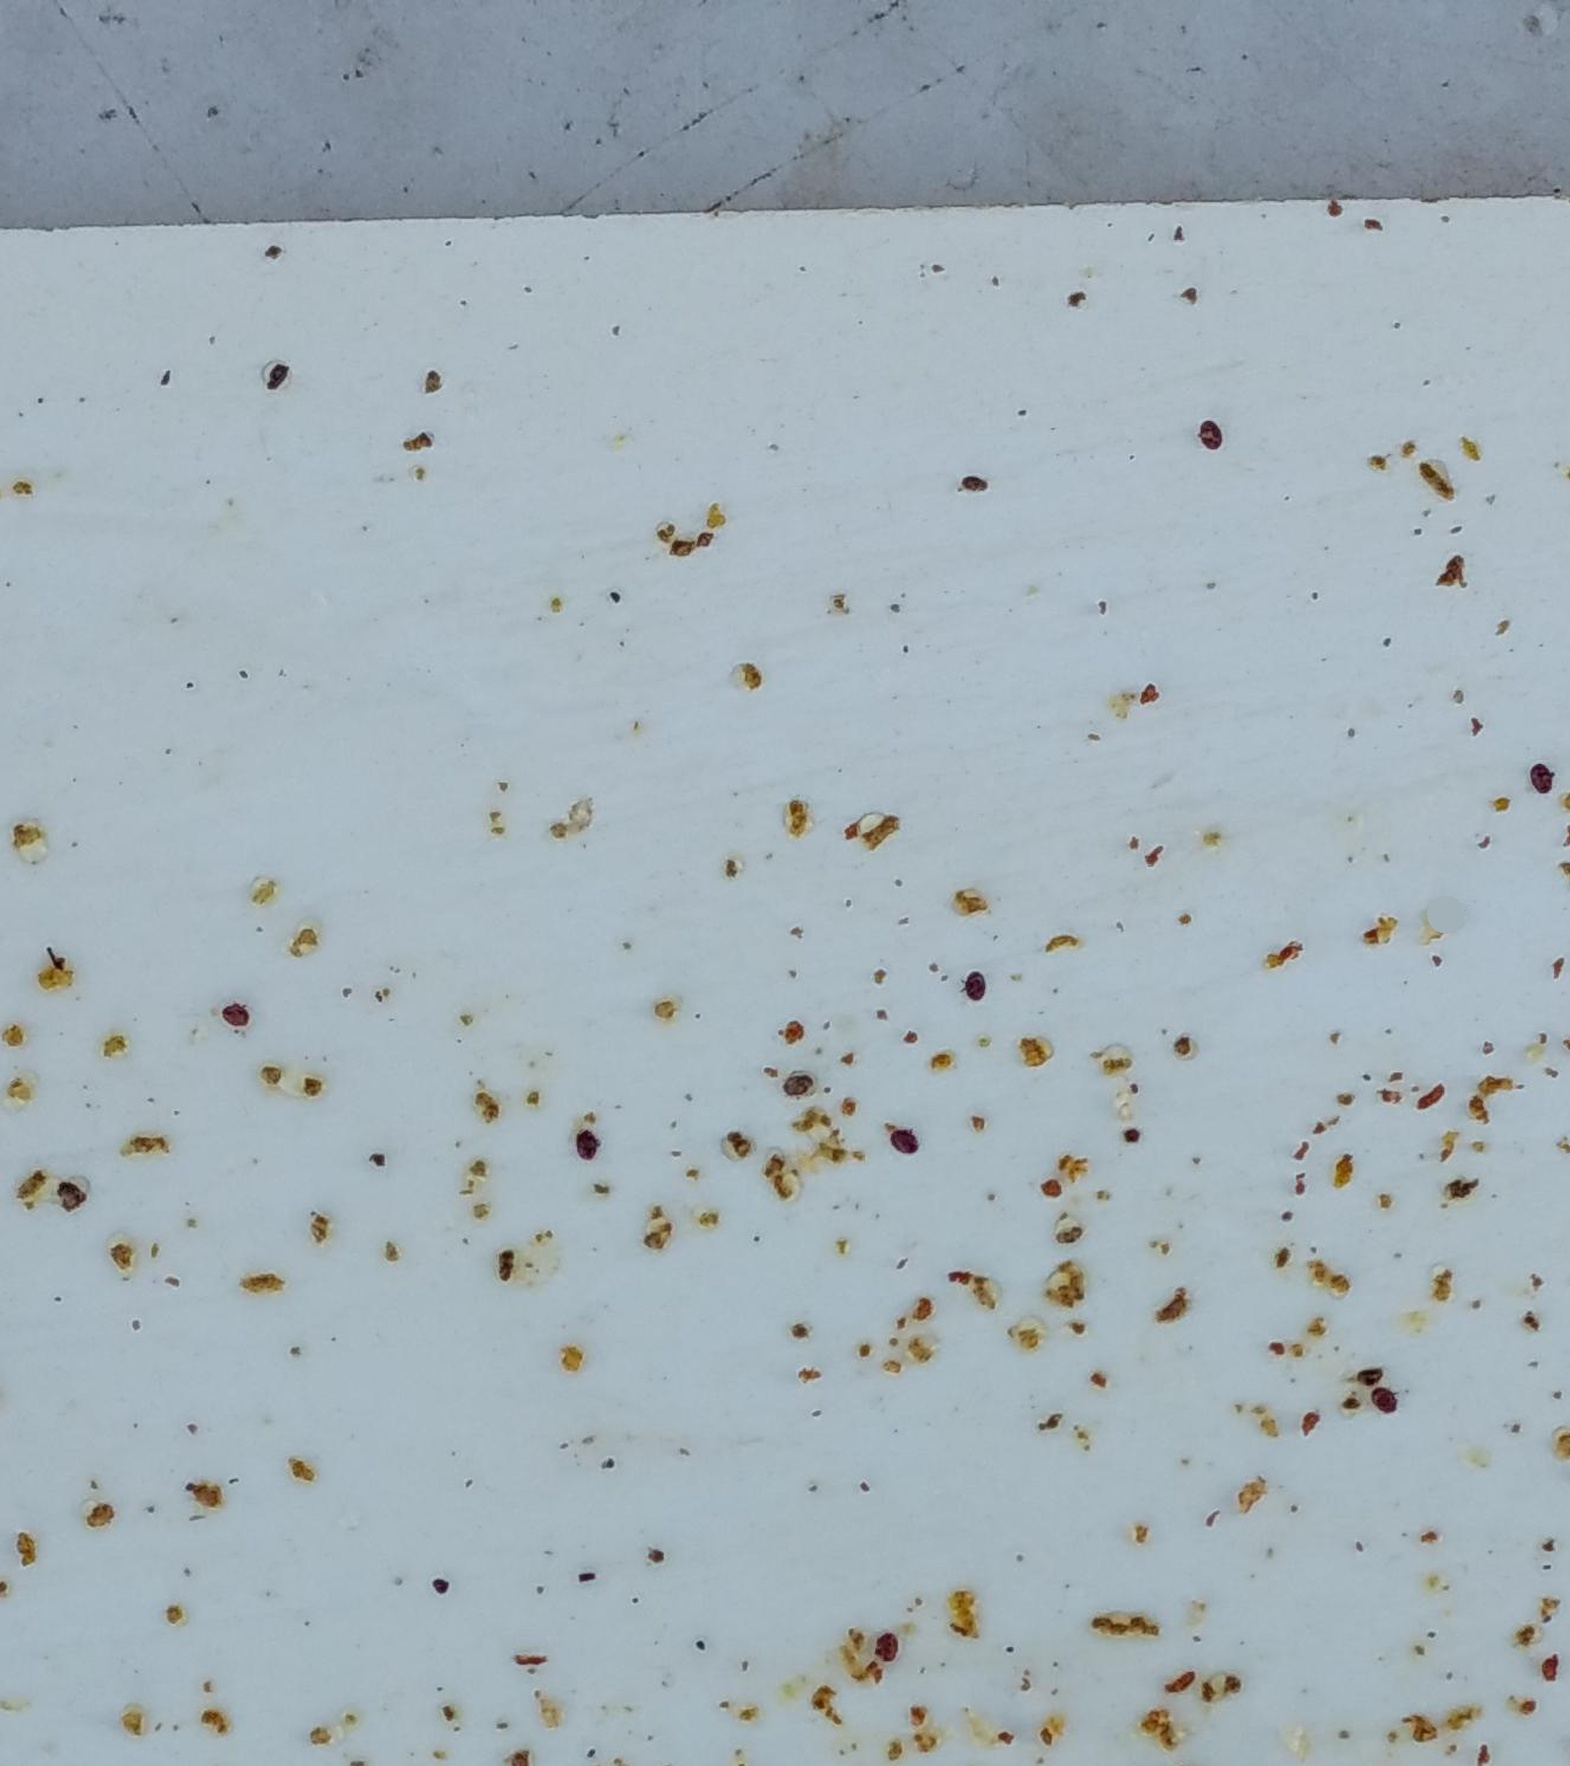Varroa: (574, 1131, 600, 1158), (791, 1069, 817, 1096), (874, 1634, 900, 1661), (1531, 762, 1553, 791), (962, 973, 987, 999), (1373, 1382, 1397, 1407), (227, 1004, 250, 1026), (893, 1132, 914, 1154), (1200, 427, 1218, 446)
